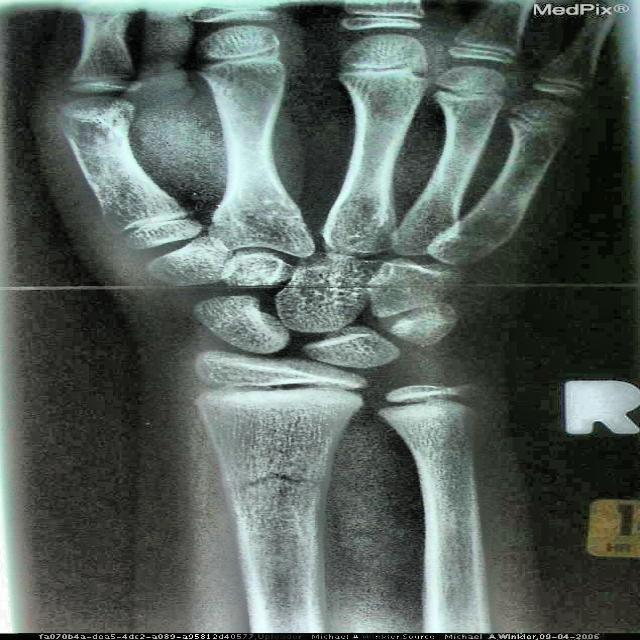line: (219, 469, 326, 497)
